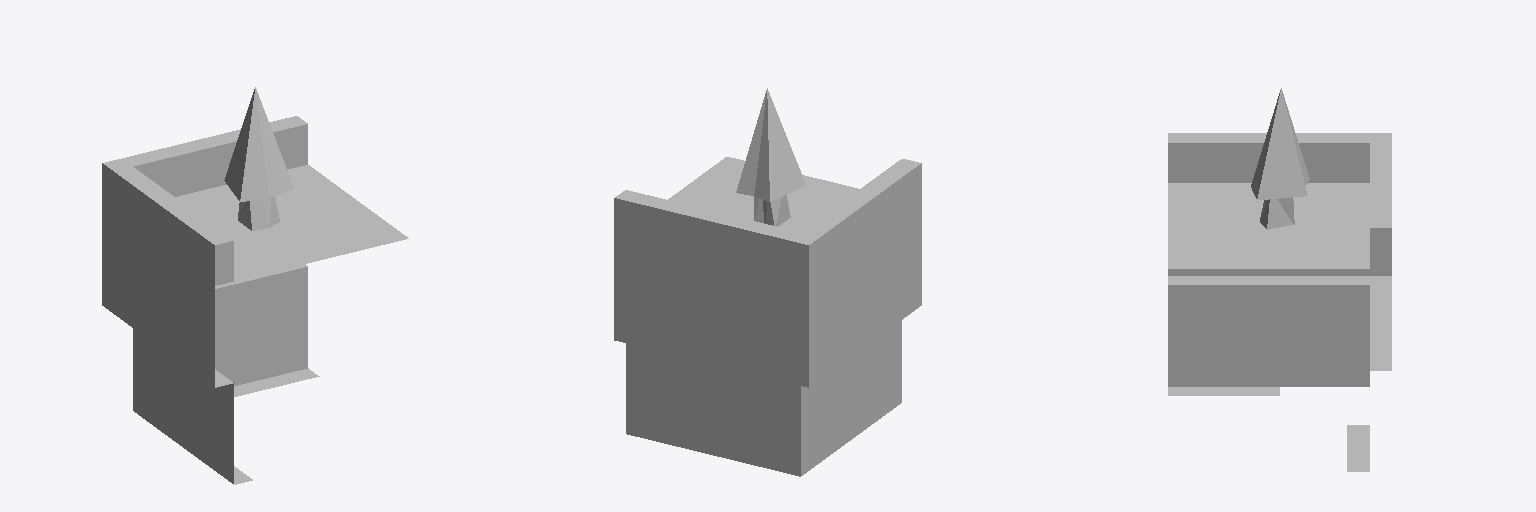
Rendered from Outer_Corner_Wall_Roof_Outer_Corner.obj.
3 views of the same model, side by side, from view 1: azimuth 30°, elevation 25°; view 2: azimuth 150°, elevation 25°; view 3: azimuth 270°, elevation 25° (orthographic).
Parts seen in each view (by area): view 1: Outer_Corner_Wall_Roof_Outer_Corner; view 2: Outer_Corner_Wall_Roof_Outer_Corner; view 3: Outer_Corner_Wall_Roof_Outer_Corner.
Part boxes in pixels (bbox=[...]): Outer_Corner_Wall_Roof_Outer_Corner: bbox=[102, 87, 408, 484]; Outer_Corner_Wall_Roof_Outer_Corner: bbox=[614, 88, 921, 476]; Outer_Corner_Wall_Roof_Outer_Corner: bbox=[1168, 88, 1391, 471].
Size of the model in its own units: 1 by 1.66 by 1.